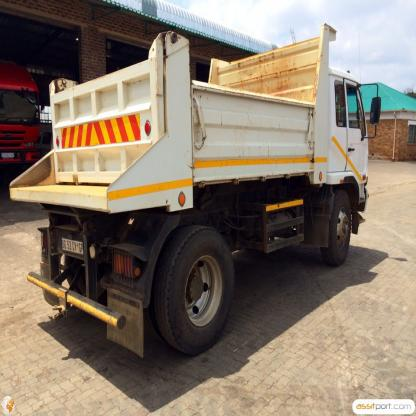dump_truck: (18, 18, 378, 363)
